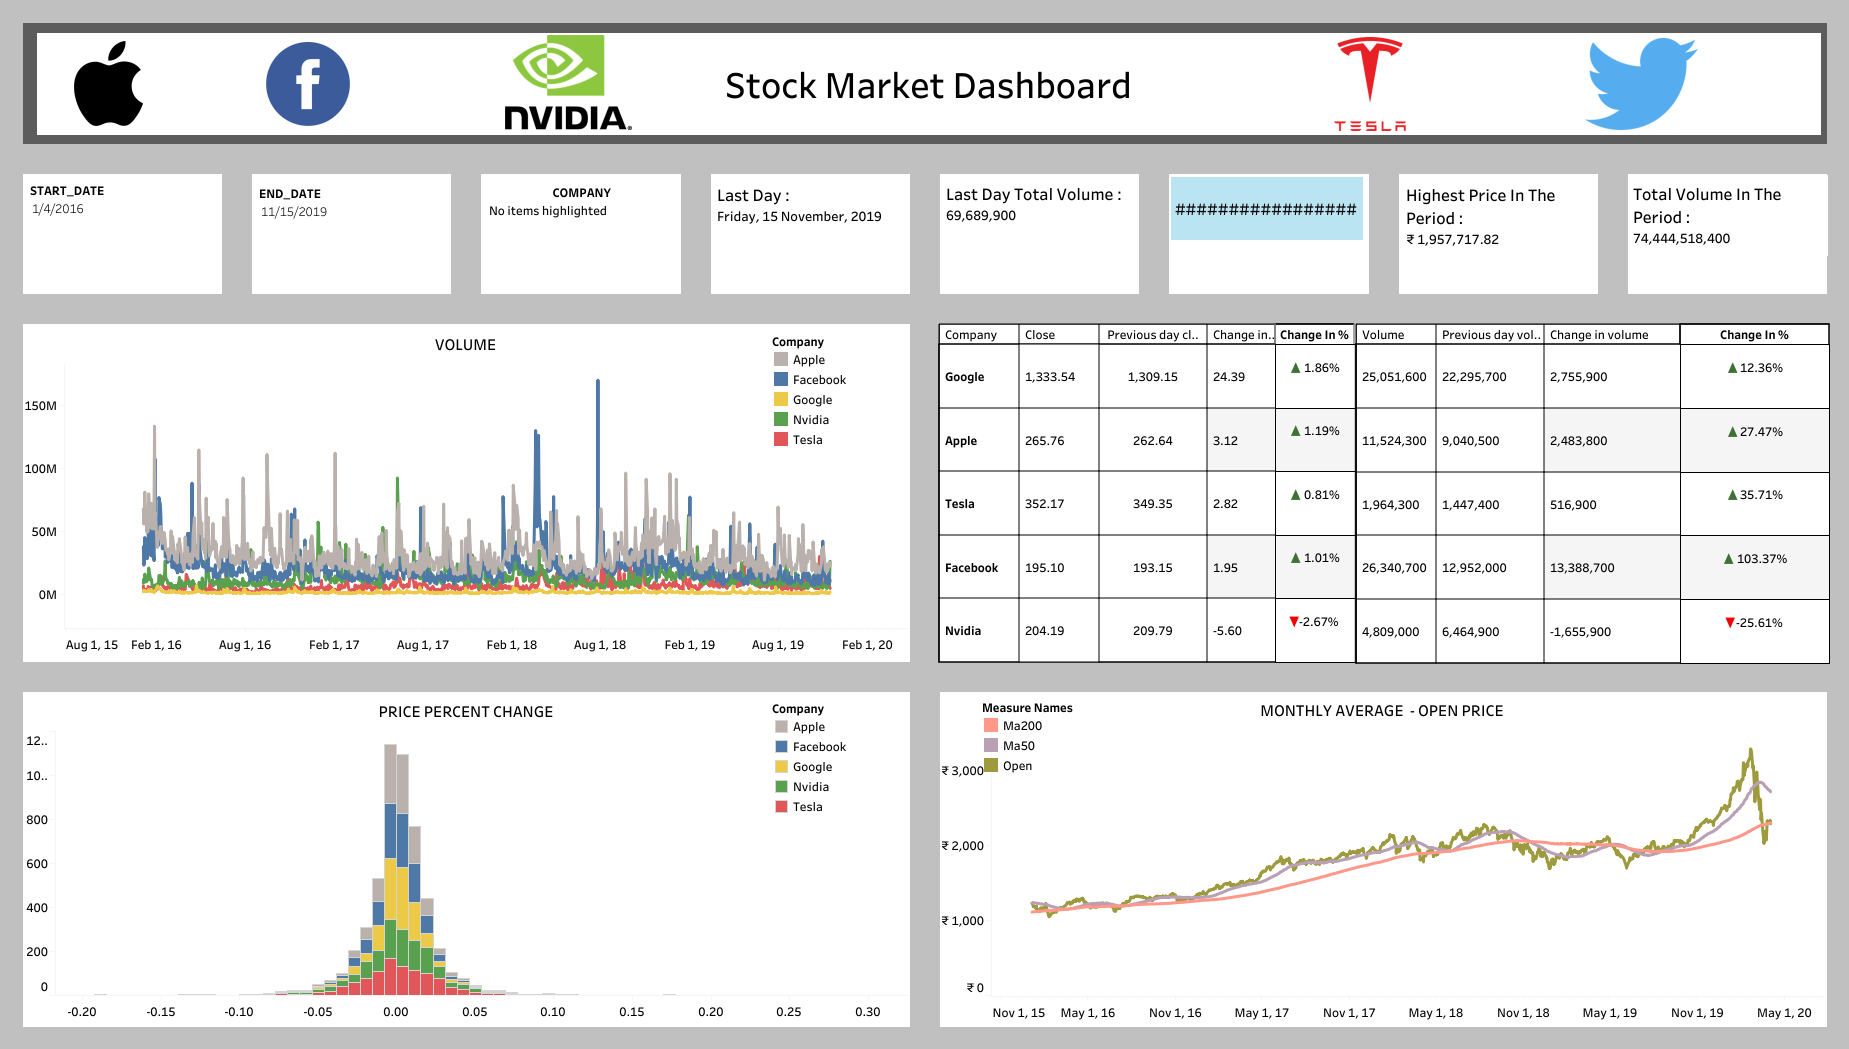

The dashboard page shown, as its layout file describes it:
{"tool":"tableau","page":{"name":"Dashboard 1","canvas":[1850,1050],"ordinal":0},"visuals":[{"type":"blank","box":[8,8,1834,151]},{"type":"worksheet","title":"TITLE ","mark":"Automatic","box":[37,33,1783,101]},{"type":"dashboard-object","box":[451,35,236,95]},{"type":"dashboard-object","box":[1227,37,286,94]},{"type":"dashboard-object","box":[1484,38,316,92]},{"type":"dashboard-object","box":[37,41,143,85]},{"type":"dashboard-object","box":[192,42,233,84]},{"type":"blank","box":[8,159,229.3,150]},{"type":"blank","box":[237.2,159,229.3,150]},{"type":"blank","box":[466.5,159,229.3,150]},{"type":"blank","box":[695.7,159,229.3,150]},{"type":"blank","box":[925,159,229.3,150]},{"type":"blank","box":[1154.3,159,229.3,150]},{"type":"blank","box":[1383.5,159,229.3,150]},{"type":"blank","box":[1612.8,159,229.3,150]},{"type":"worksheet","title":"HIGHEST PRICE IN THE PERIOD ","mark":"Automatic","box":[1402,175,191,81]},{"type":"worksheet","title":"TOTAL VOLUME IN THE PERIOD ","mark":"Automatic","box":[1629,175,198,80]},{"type":"worksheet","title":"LAST DAY","mark":"Automatic","box":[713,176,195,56]},{"type":"worksheet","title":"LAST DAY TOTAL VOLUME ","mark":"Automatic","box":[942,176,195,55]},{"type":"worksheet","title":"LOWEST PRICE IN THE PERIOD ","mark":"Automatic","box":[1171,177,192,63]},{"type":"parameter","param":"[Parameters].[Parameter 2]","box":[30,180,184,109]},{"type":"highlighter","title":"VOLUME ","param":"[federated.1tt0s400a3clex119o1gl0g0yvbr].[none:Table Name:nk]","box":[487,182,188,106]},{"type":"parameter","param":"[Parameters].[Parameter 1]","box":[259,183,183,102]},{"type":"blank","box":[8,309,917,368]},{"type":"blank","box":[925,309,917,368]},{"type":"worksheet","title":"DETAILED PRICE TABLE ","mark":"Automatic","rows":["Table Name","Close","Previous day close price","Change in price"],"box":[939,324,416,339]},{"type":"worksheet","title":"DETAILED VOLUME TABLE ","mark":"Automatic","rows":["Table Name","Volume","Previous day volume","Change in volume"],"box":[1356,324,474,340]},{"type":"worksheet","title":"VOLUME ","mark":"Automatic","rows":["Volume"],"cols":["Date"],"box":[24,327,883,331]},{"type":"legend","title":"VOLUME ","param":"[federated.1tt0s400a3clex119o1gl0g0yvbr].[none:Table Name:nk]","box":[771,330,129,126]},{"type":"blank","box":[8,677,917,365]},{"type":"blank","box":[925,677,917,365]},{"type":"worksheet","title":"MONTHLY AVERAGE  - OPEN PRICE ","mark":"Automatic","cols":["Date"],"box":[941,693,882,333]},{"type":"worksheet","title":"PRICE PERCENT CHANGE ","mark":"Automatic","rows":["Percent change in price"],"cols":["Percent change in price (bin)"],"box":[25,694,882,331]},{"type":"legend","title":"MONTHLY AVERAGE  - OPEN PRICE ","param":"[federated.1tt0s400a3clex119o1gl0g0yvbr].[:Measure Names]","box":[981,696,133,101]},{"type":"legend","title":"PRICE PERCENT CHANGE ","param":"[federated.1tt0s400a3clex119o1gl0g0yvbr].[none:Table Name:nk]","box":[771,697,135,154]}]}

Visuals, with their boxes in screenshot pixels (x1, y1, x2, y2), scaled from the page's 1850x1050 canvas onto the 1849x1049 screenshot:
blank: [x1=8, y1=8, x2=1841, y2=159]
"TITLE " worksheet: [x1=37, y1=33, x2=1819, y2=134]
dashboard-object: [x1=451, y1=35, x2=687, y2=130]
dashboard-object: [x1=1226, y1=37, x2=1512, y2=131]
dashboard-object: [x1=1483, y1=38, x2=1799, y2=130]
dashboard-object: [x1=37, y1=41, x2=180, y2=126]
dashboard-object: [x1=192, y1=42, x2=425, y2=126]
blank: [x1=8, y1=159, x2=237, y2=309]
blank: [x1=237, y1=159, x2=466, y2=309]
blank: [x1=466, y1=159, x2=695, y2=309]
blank: [x1=695, y1=159, x2=924, y2=309]
blank: [x1=924, y1=159, x2=1154, y2=309]
blank: [x1=1154, y1=159, x2=1383, y2=309]
blank: [x1=1383, y1=159, x2=1612, y2=309]
blank: [x1=1612, y1=159, x2=1841, y2=309]
"HIGHEST PRICE IN THE PERIOD " worksheet: [x1=1401, y1=175, x2=1592, y2=256]
"TOTAL VOLUME IN THE PERIOD " worksheet: [x1=1628, y1=175, x2=1826, y2=255]
"LAST DAY" worksheet: [x1=713, y1=176, x2=908, y2=232]
"LAST DAY TOTAL VOLUME " worksheet: [x1=941, y1=176, x2=1136, y2=231]
"LOWEST PRICE IN THE PERIOD " worksheet: [x1=1170, y1=177, x2=1362, y2=240]
parameter: [x1=30, y1=180, x2=214, y2=289]
"VOLUME " highlighter: [x1=487, y1=182, x2=675, y2=288]
parameter: [x1=259, y1=183, x2=442, y2=285]
blank: [x1=8, y1=309, x2=924, y2=676]
blank: [x1=924, y1=309, x2=1841, y2=676]
"DETAILED PRICE TABLE " worksheet: [x1=938, y1=324, x2=1354, y2=662]
"DETAILED VOLUME TABLE " worksheet: [x1=1355, y1=324, x2=1829, y2=663]
"VOLUME " worksheet: [x1=24, y1=327, x2=907, y2=657]
"VOLUME " legend: [x1=771, y1=330, x2=900, y2=456]
blank: [x1=8, y1=676, x2=924, y2=1041]
blank: [x1=924, y1=676, x2=1841, y2=1041]
"MONTHLY AVERAGE  - OPEN PRICE " worksheet: [x1=940, y1=692, x2=1822, y2=1025]
"PRICE PERCENT CHANGE " worksheet: [x1=25, y1=693, x2=907, y2=1024]
"MONTHLY AVERAGE  - OPEN PRICE " legend: [x1=980, y1=695, x2=1113, y2=796]
"PRICE PERCENT CHANGE " legend: [x1=771, y1=696, x2=906, y2=850]
